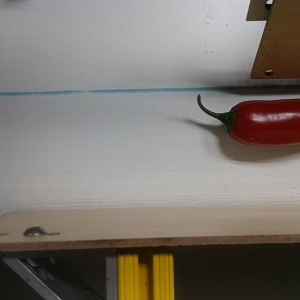Cut Point: (218, 101, 248, 144)
